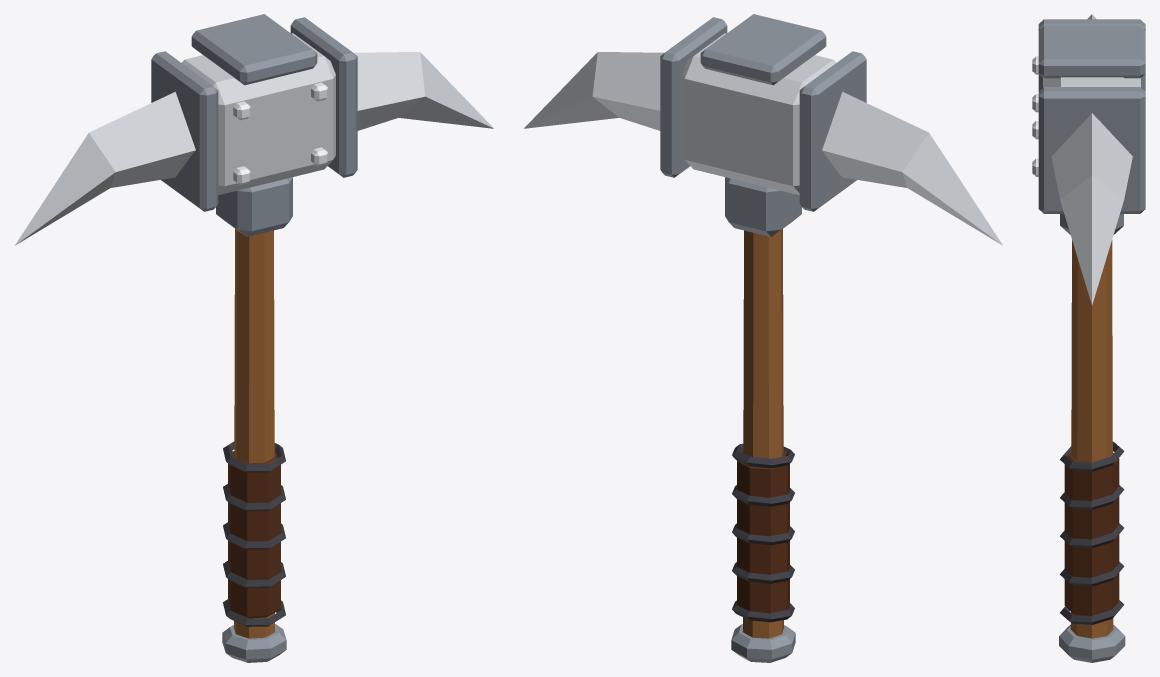
Rendered from IronHeavyPickaxe.fbx.
3 renders of one model, left to right at view 1: azimuth 30°, elevation 25°; view 2: azimuth 150°, elevation 25°; view 3: azimuth 270°, elevation 25°, orthographic.
Visible parts, largest first — view 1: IronHeavyPickaxe; view 2: IronHeavyPickaxe; view 3: IronHeavyPickaxe.
Part boxes in pixels (box(x1,y1,x2,y2)): IronHeavyPickaxe: box(15, 14, 493, 662); IronHeavyPickaxe: box(524, 14, 1002, 662); IronHeavyPickaxe: box(1032, 14, 1145, 662).
Bounding box in the file's own units: 3.1 × 3.78 × 0.635.
1 material, 1 textured.
